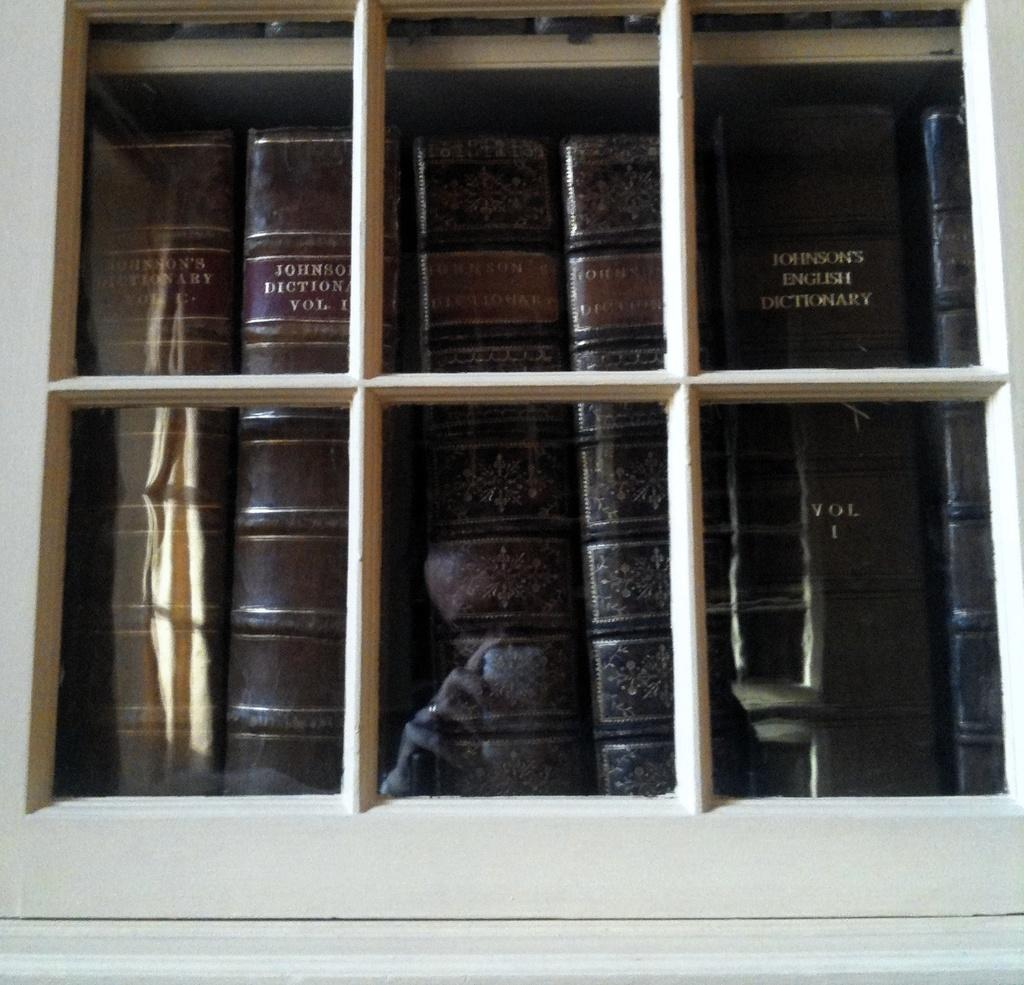Book: (713, 103, 911, 369)
Luggage-and-bags: (56, 10, 992, 807)
